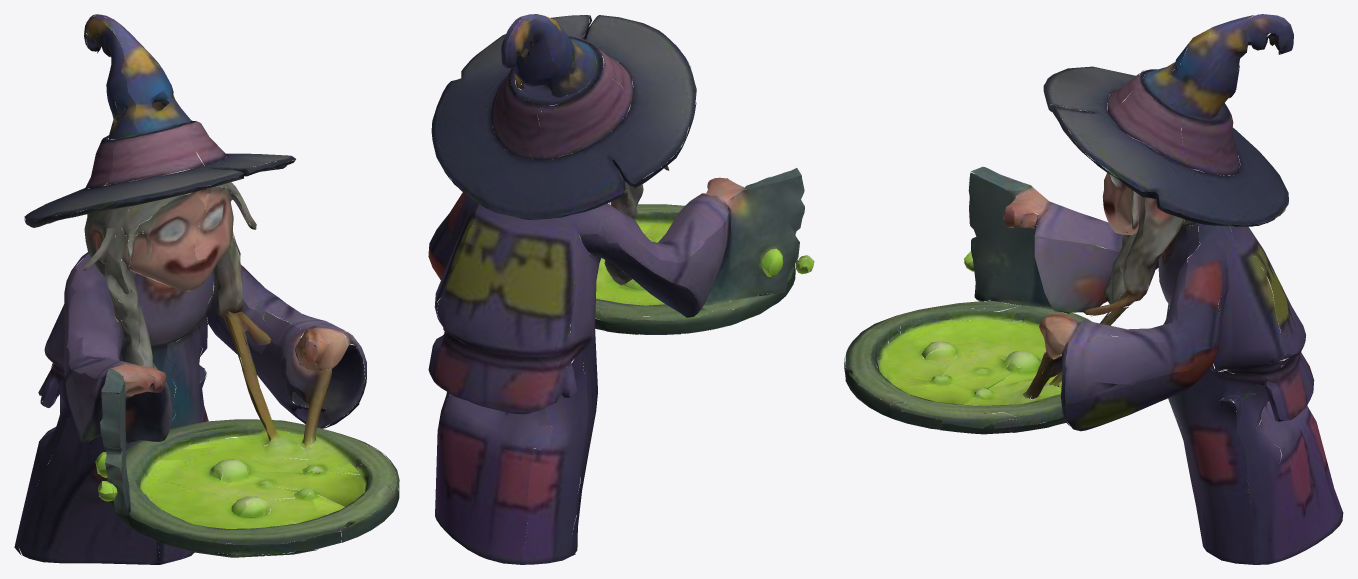
Rendered from witch.glb.
The picture shows the model from 3 angles, left to right: view 1: azimuth 30°, elevation 25°; view 2: azimuth 150°, elevation 25°; view 3: azimuth 270°, elevation 25°; orthographic projection. The views are drawn at different scales.
Parts seen in each view (by area): view 1: geometry_0; view 2: geometry_0; view 3: geometry_0.
Boxes of the visible parts, x1,y1,x2,y2 form: geometry_0: (14, 14, 399, 564); geometry_0: (428, 14, 814, 564); geometry_0: (844, 14, 1343, 564).
Bounding box in the file's own units: 0.5147 × 0.8255 × 0.7316.
1 material, 1 textured.
